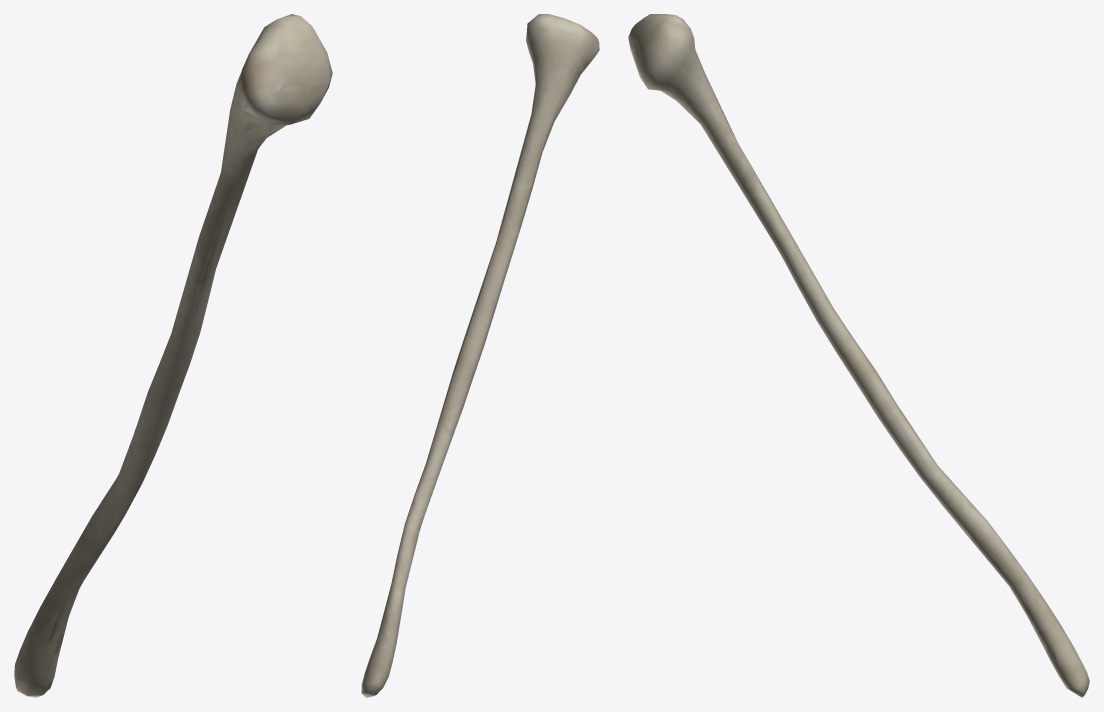
Rendered from L Fibula.fbx.
3 views of the same model, side by side, from view 1: azimuth 30°, elevation 25°; view 2: azimuth 150°, elevation 25°; view 3: azimuth 270°, elevation 25° (orthographic). The views are drawn at different scales.
Visible parts, largest first — view 1: L Fibula, L Fibula low, L Fibula high; view 2: L Fibula, L Fibula low, L Fibula high; view 3: L Fibula, L Fibula low, L Fibula high.
Boxes of the visible parts, x1=… form: L Fibula: x1=14, y1=16, x2=332, y2=697; L Fibula low: x1=14, y1=14, x2=331, y2=697; L Fibula high: x1=18, y1=39, x2=316, y2=696; L Fibula: x1=361, y1=14, x2=599, y2=695; L Fibula low: x1=361, y1=14, x2=596, y2=697; L Fibula high: x1=367, y1=28, x2=577, y2=694; L Fibula: x1=628, y1=14, x2=1089, y2=697; L Fibula low: x1=630, y1=15, x2=1084, y2=697; L Fibula high: x1=633, y1=39, x2=1078, y2=677.
Size of the model in its own units: 0.8386 by 7.49 by 4.64.
1 material, 1 textured.
